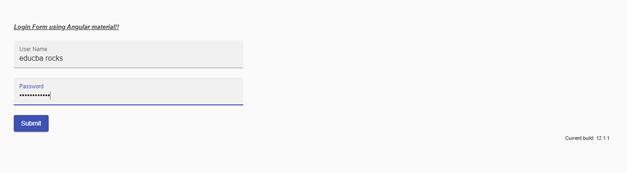button: (14, 116, 51, 133)
input: (16, 41, 245, 69), (15, 79, 245, 106)
